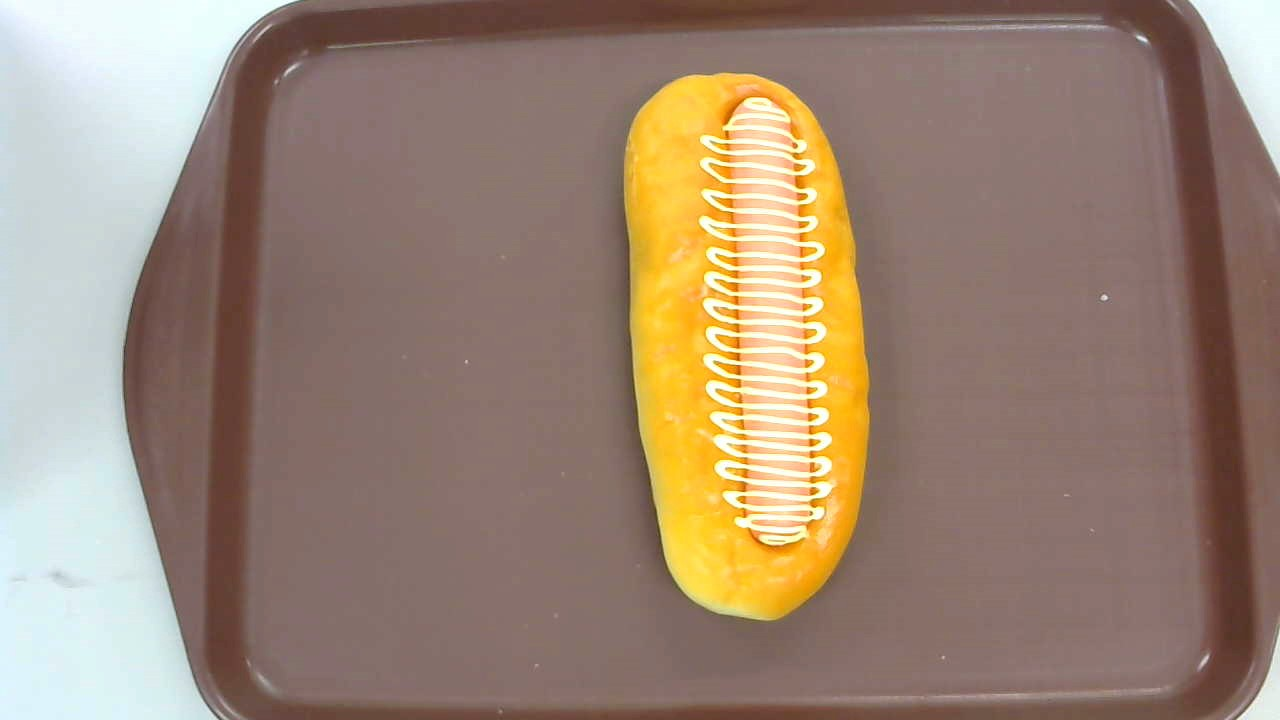hot dog: (622, 72, 871, 622)
